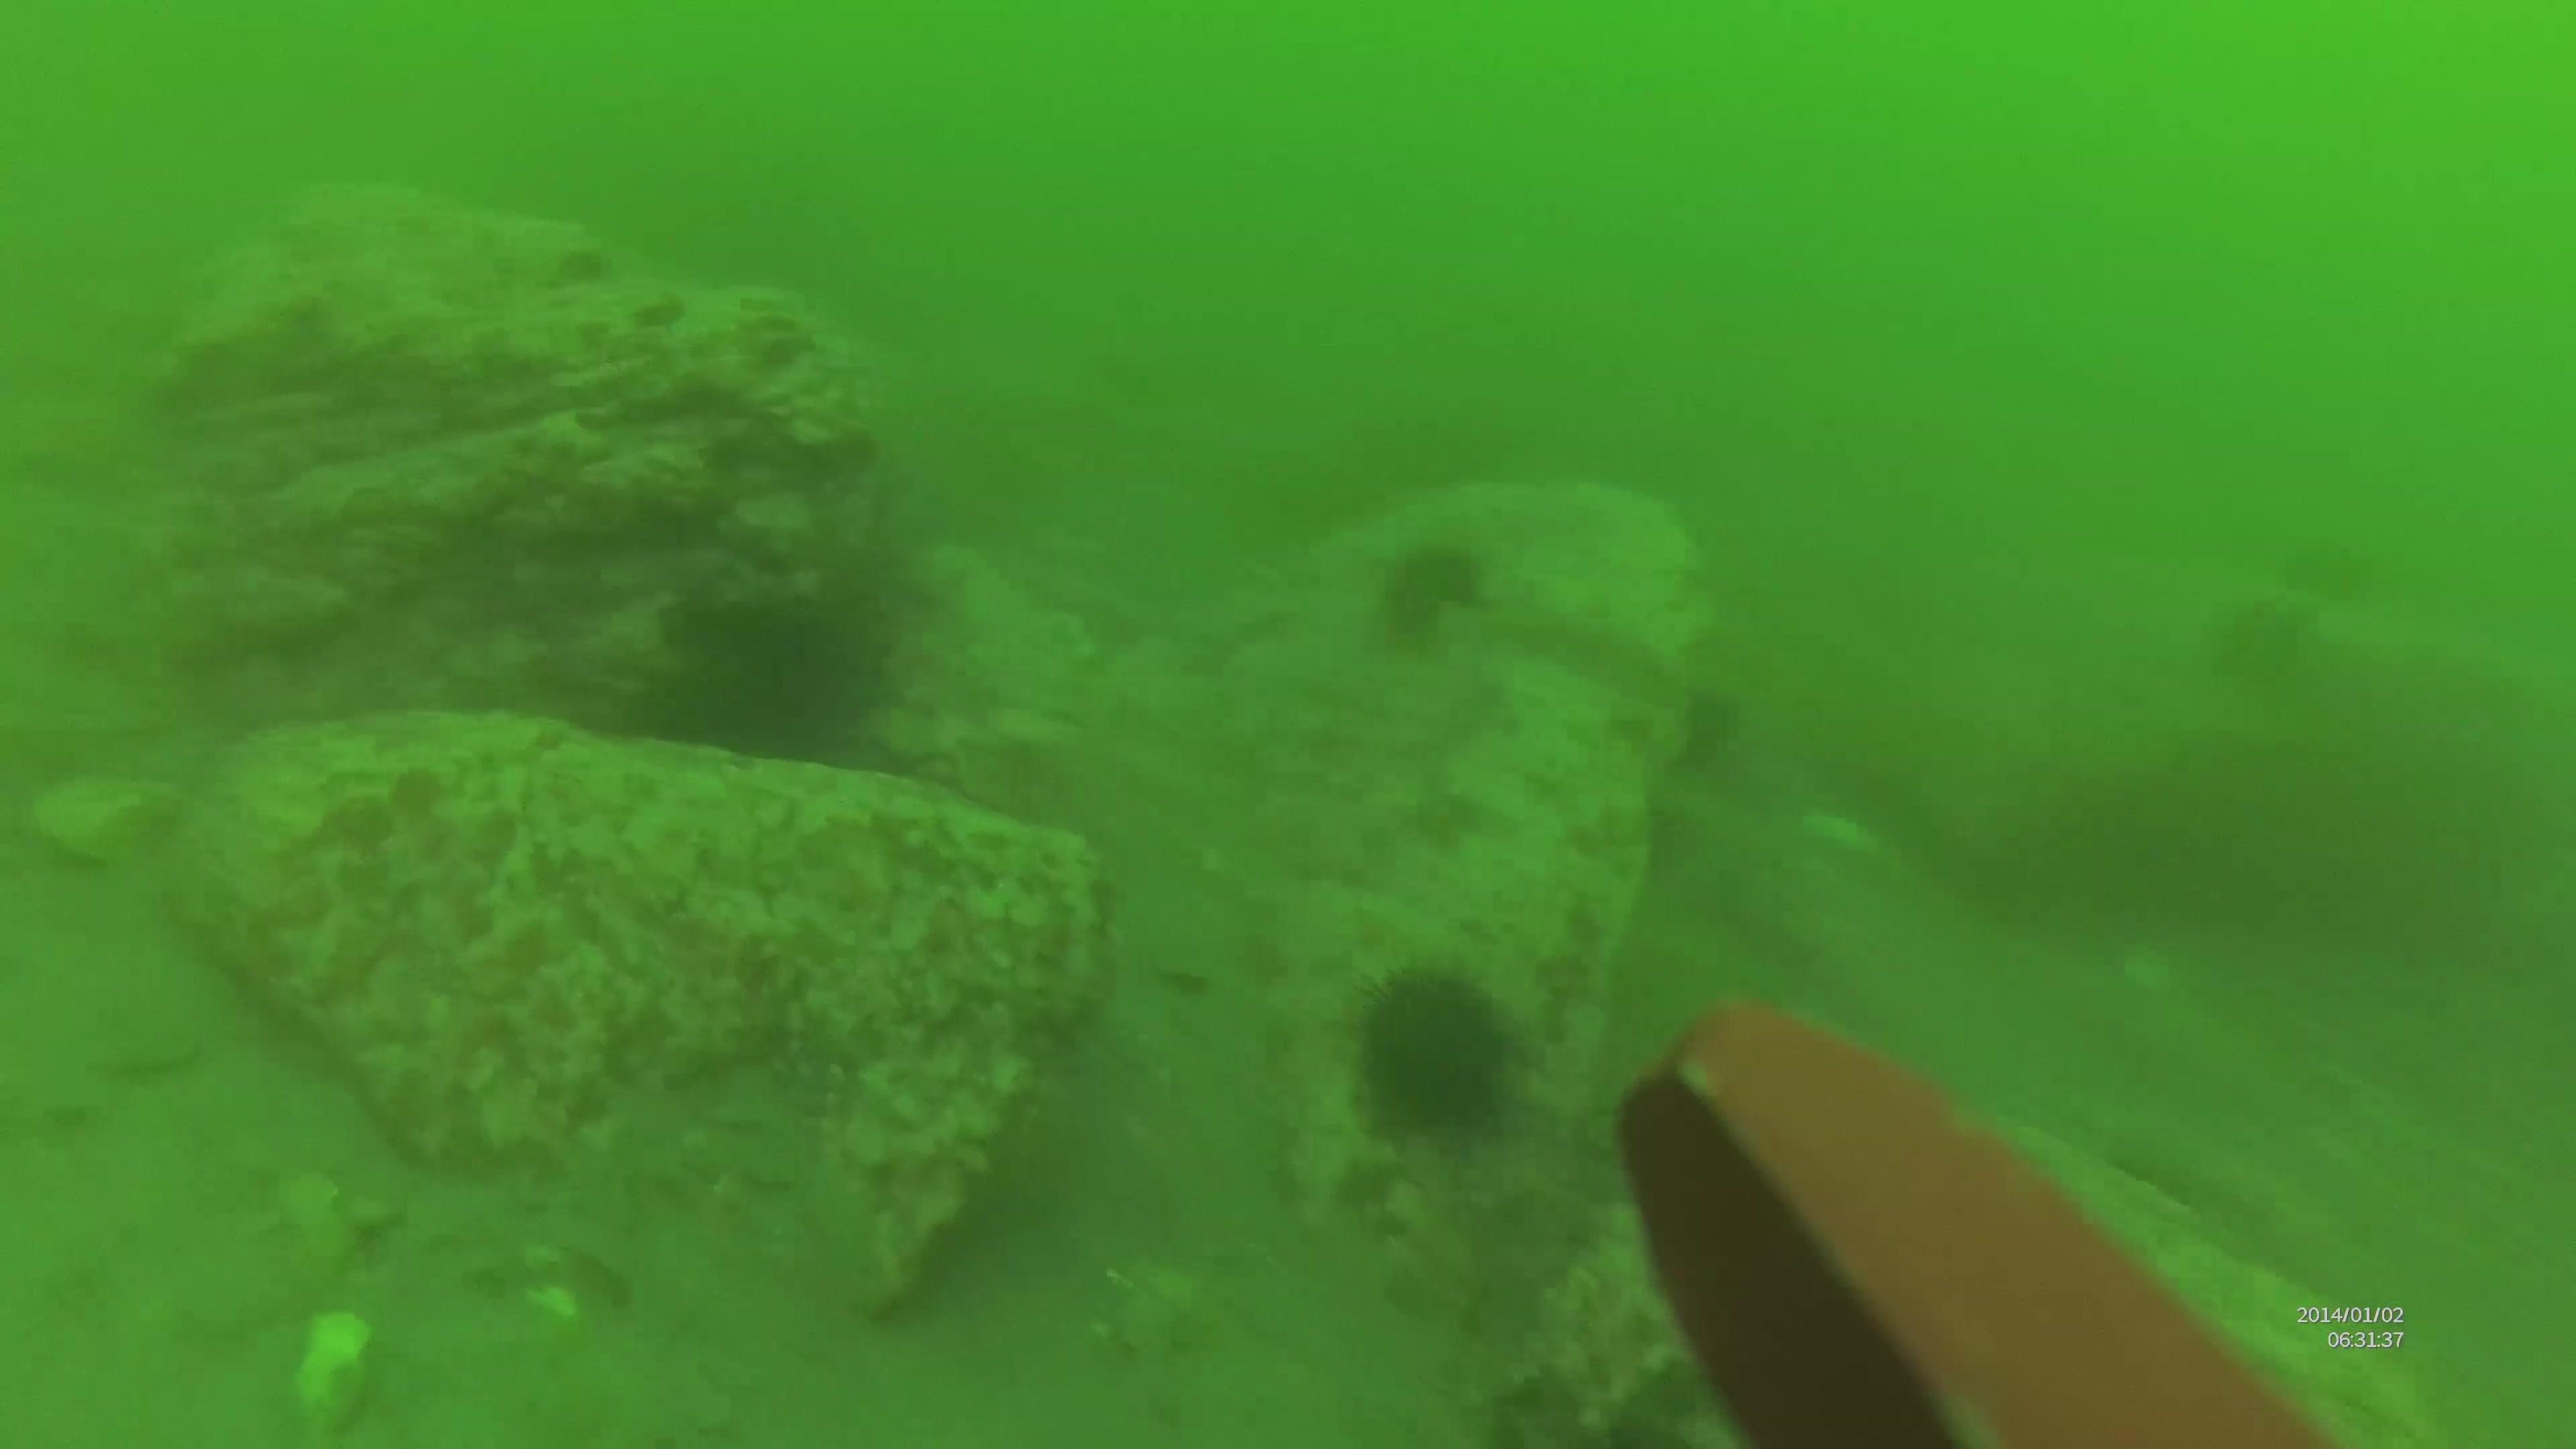echinus: (616, 571, 906, 764), (1352, 952, 1518, 1152), (1375, 533, 1486, 660), (1684, 679, 1752, 782)
